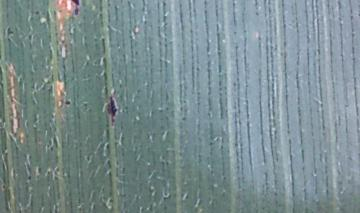tarspot: (105, 95, 118, 127), (73, 6, 80, 17), (63, 100, 72, 107), (26, 174, 33, 182), (33, 9, 40, 17), (69, 1, 80, 6), (2, 183, 7, 192)
